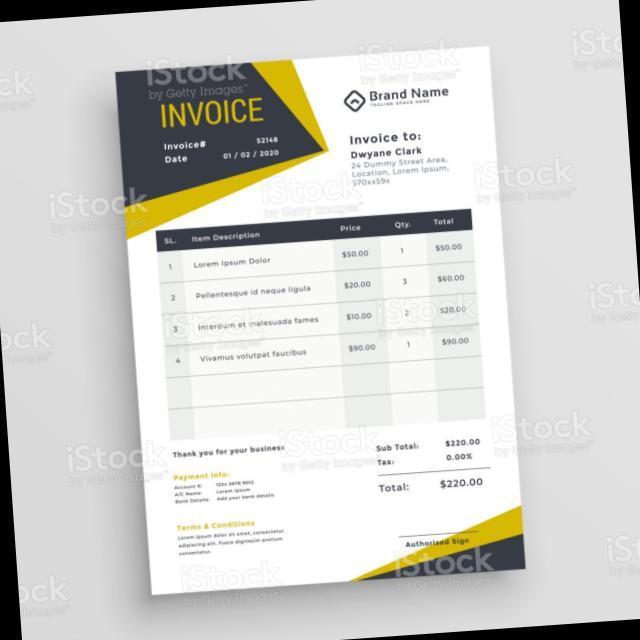customer_address: (350, 156, 451, 189)
customer_name: (346, 145, 442, 162)
invoice_date: (217, 146, 285, 163)
invoice_number: (250, 131, 282, 146)
invoice_subtotal: (442, 432, 485, 449)
invoice_total: (434, 473, 494, 494)
item_description: (192, 254, 322, 372)
item_quantity: (395, 237, 416, 358)
item_total_price: (427, 236, 475, 354)
item_unit_price: (335, 242, 383, 357)
supplier_name: (367, 86, 455, 108)
tax_rate: (442, 448, 479, 466)
